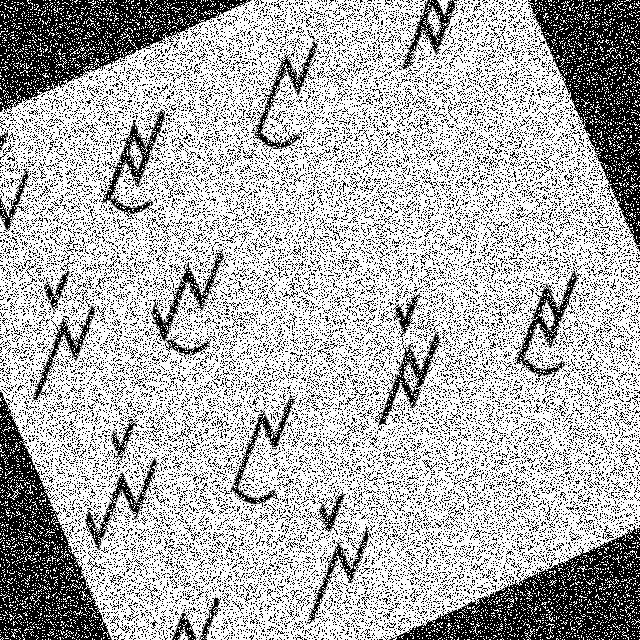lar: (258, 484, 402, 634), (0, 260, 125, 409)
law: (210, 21, 358, 165), (196, 384, 336, 523)
rar: (327, 280, 472, 436), (352, 0, 498, 77)
raw: (477, 245, 621, 392), (66, 92, 202, 230)
yar: (44, 408, 194, 560), (0, 125, 57, 264)
yaw: (128, 238, 270, 378), (123, 588, 259, 639)
